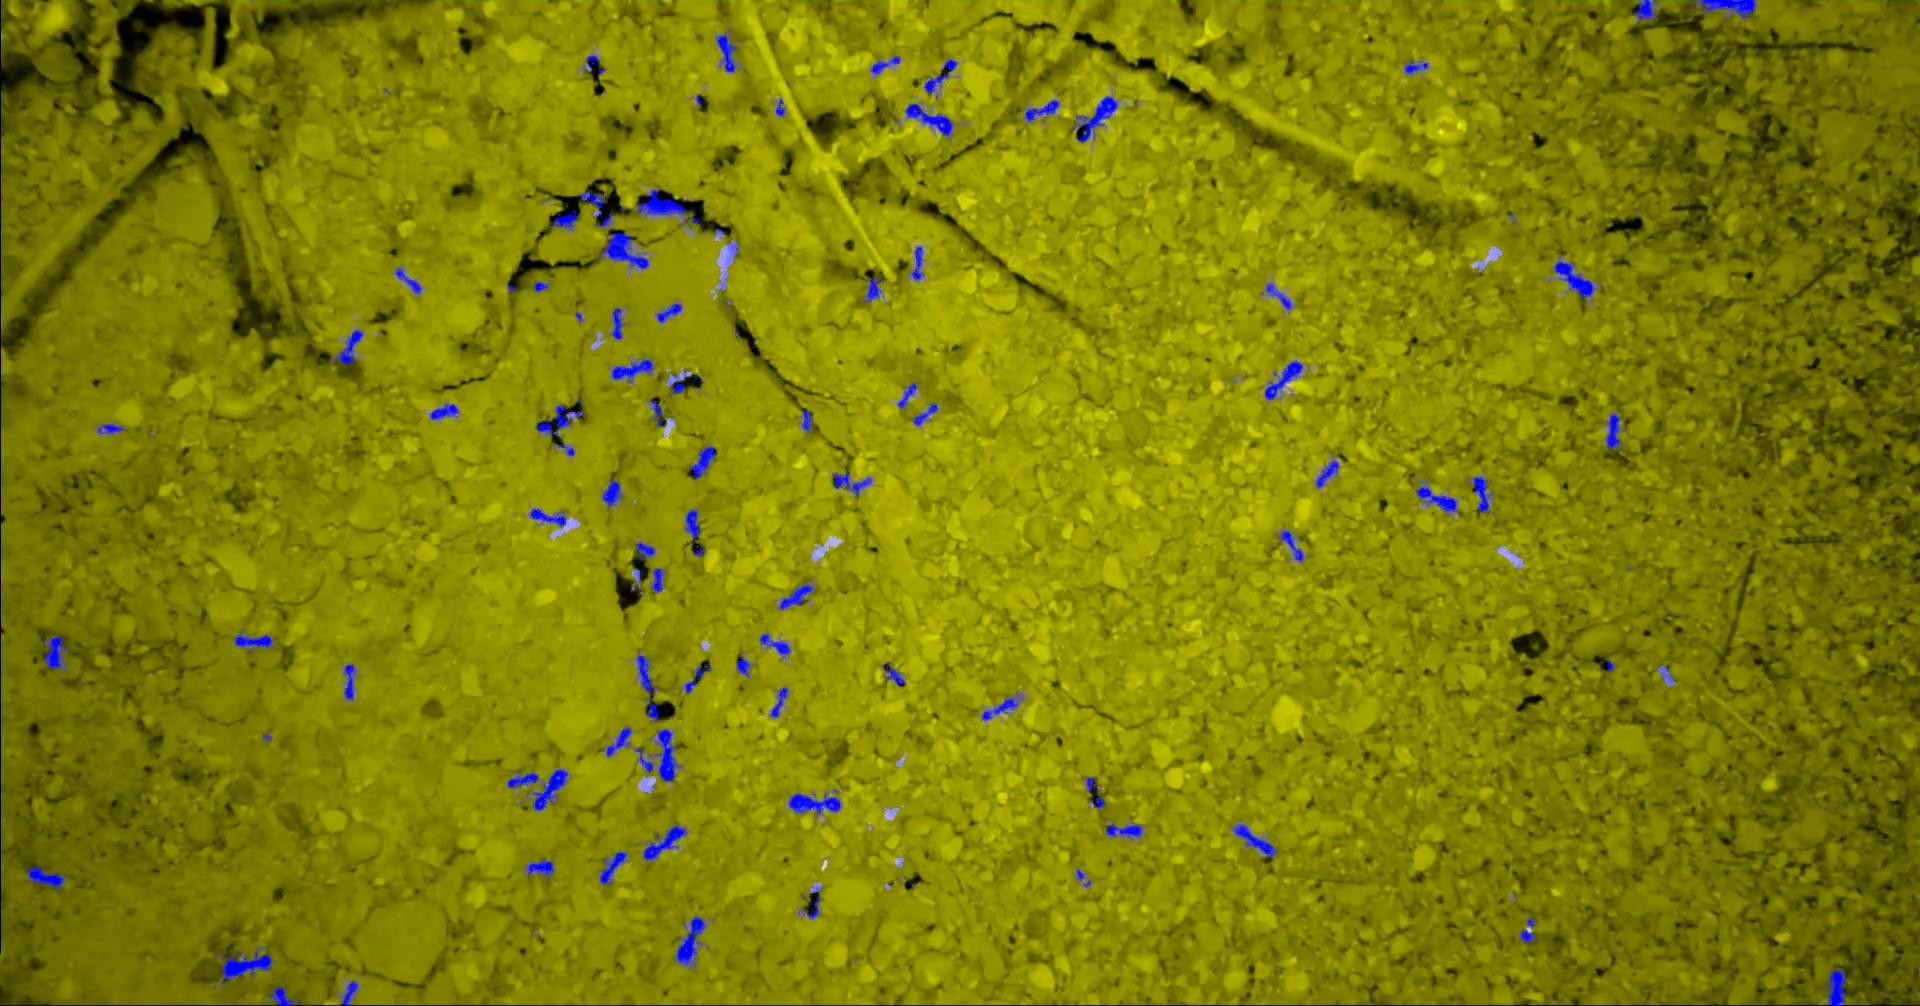ant: (636, 188, 698, 224), (1073, 95, 1117, 142), (216, 948, 272, 981), (599, 231, 649, 268), (1552, 259, 1594, 298), (643, 823, 686, 860), (674, 915, 705, 967), (1232, 823, 1277, 857), (905, 103, 952, 136), (531, 768, 568, 810), (536, 404, 582, 437), (635, 655, 658, 721), (1263, 359, 1302, 399), (655, 728, 681, 781), (789, 793, 841, 815), (923, 58, 957, 93), (1690, 0, 1756, 18), (1415, 485, 1457, 512), (982, 694, 1023, 720), (331, 329, 362, 365), (611, 358, 653, 382), (832, 470, 871, 495), (25, 865, 65, 890), (41, 635, 69, 669), (778, 582, 813, 608), (599, 851, 626, 884), (690, 445, 715, 479), (232, 631, 272, 653), (1825, 968, 1848, 1005), (715, 32, 735, 72), (1279, 528, 1303, 561), (604, 727, 631, 756), (684, 663, 710, 694), (1023, 99, 1059, 121), (668, 371, 703, 392), (394, 267, 422, 293), (1470, 476, 1491, 512), (530, 508, 566, 527), (1265, 283, 1291, 309), (526, 857, 554, 882), (599, 479, 622, 508), (759, 633, 789, 655), (580, 191, 604, 217), (1316, 459, 1338, 486), (801, 887, 820, 920), (912, 401, 937, 426), (268, 984, 297, 1005), (870, 55, 899, 74), (883, 662, 905, 686), (505, 771, 538, 788), (1605, 413, 1620, 448), (1636, 0, 1658, 23), (429, 401, 458, 419), (770, 687, 787, 716), (1105, 823, 1142, 837), (550, 210, 577, 229), (863, 277, 884, 301), (655, 304, 681, 323), (897, 382, 916, 408), (634, 747, 653, 772), (909, 245, 923, 279), (339, 981, 358, 1005), (610, 307, 623, 339), (684, 509, 698, 540), (1519, 917, 1535, 942), (584, 55, 604, 75), (650, 399, 665, 426), (343, 663, 354, 699), (735, 653, 750, 677), (636, 541, 655, 560), (1404, 58, 1427, 74), (651, 567, 664, 592), (596, 211, 615, 227), (95, 423, 124, 433), (1076, 868, 1090, 887), (556, 442, 574, 456), (630, 567, 640, 591), (801, 408, 811, 431), (1084, 776, 1098, 793), (1088, 795, 1103, 808), (532, 279, 549, 291), (775, 98, 783, 116)
